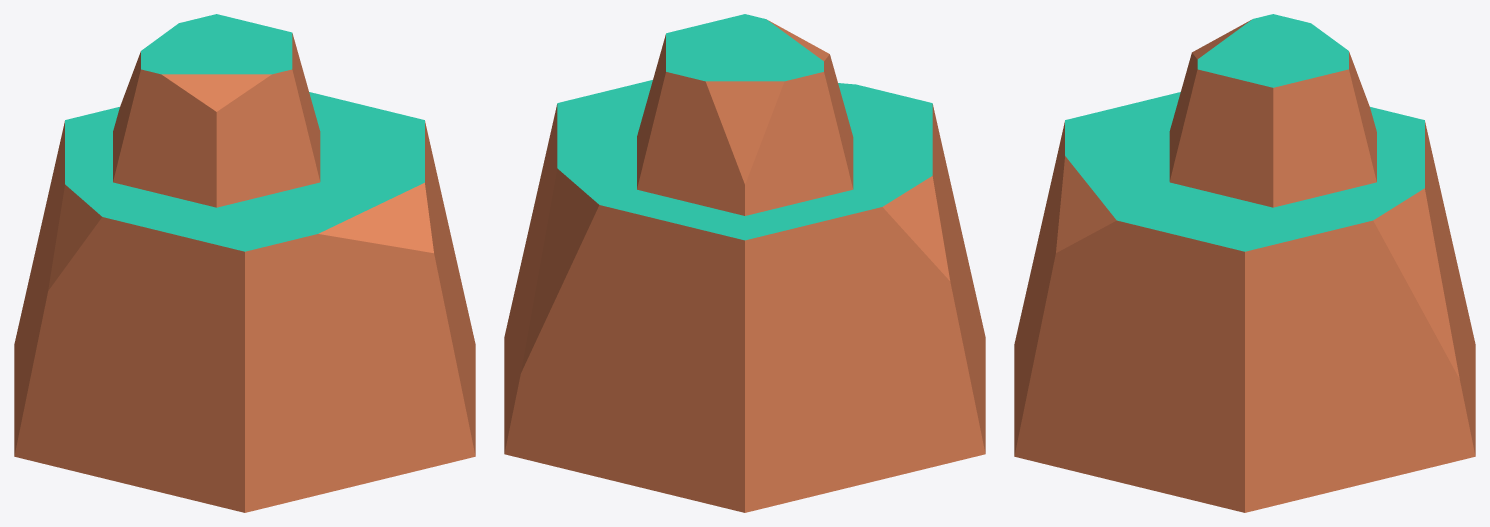
Rendered from rock_smallE.glb.
3 views of the same model, side by side, from view 1: azimuth 30°, elevation 25°; view 2: azimuth 150°, elevation 25°; view 3: azimuth 270°, elevation 25° (orthographic). The views are drawn at different scales.
Parts seen in each view (by area): view 1: rock_smallE; view 2: rock_smallE; view 3: rock_smallE.
Boxes of the visible parts, box(x1,y1,x2,y2) form: rock_smallE: box(14, 14, 475, 512); rock_smallE: box(504, 14, 985, 512); rock_smallE: box(1014, 14, 1475, 512).
Bounding box in the file's own units: 0.3608 × 0.2562 × 0.3125.
